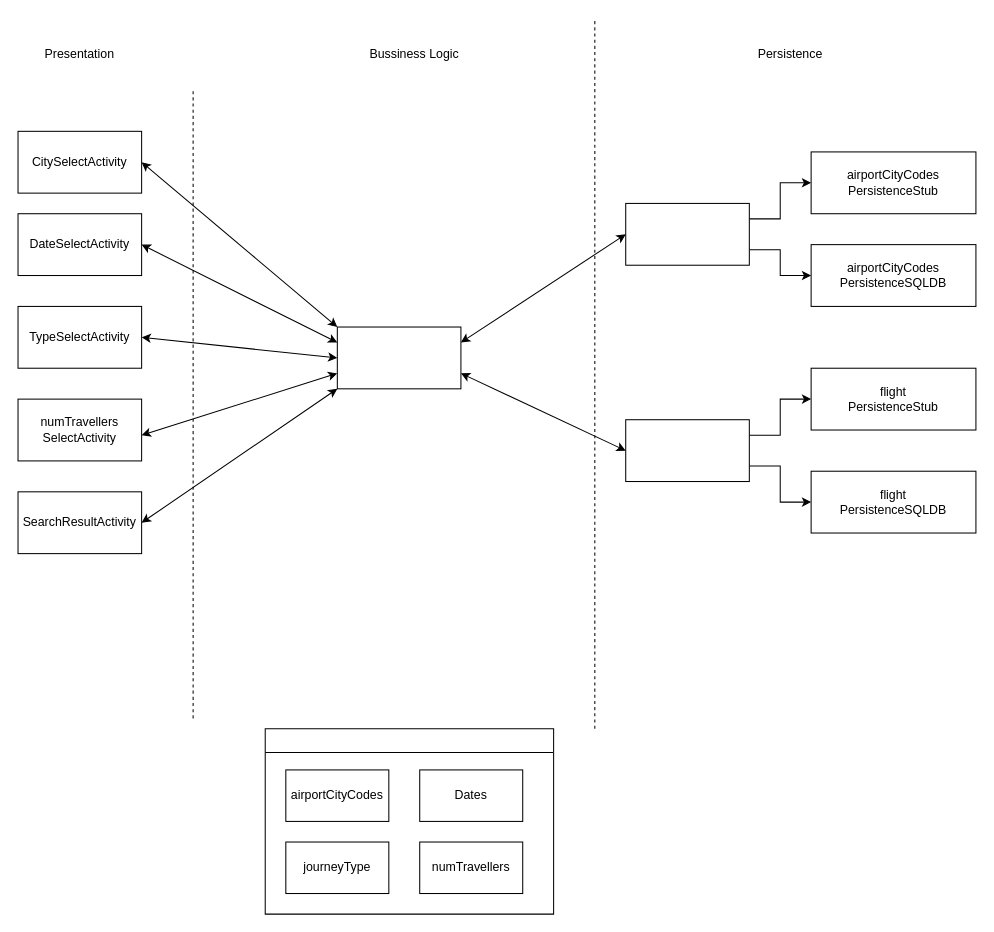
The diagram is 994 pixels wide and 932 high, and some of its shapes have lost their labels. Each missing label, with the box of its shape:
AccessSearchFilghts: (336, 326, 461, 389)
airportCityCodes Persistence: (625, 202, 749, 265)
Domain Specific Object: (264, 728, 554, 914)
flight Persistence: (625, 419, 749, 482)
